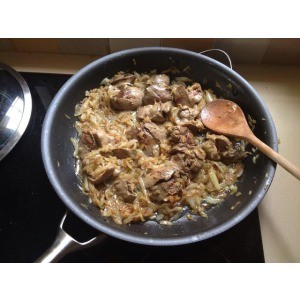liver_brain food: (90, 95, 187, 222)
